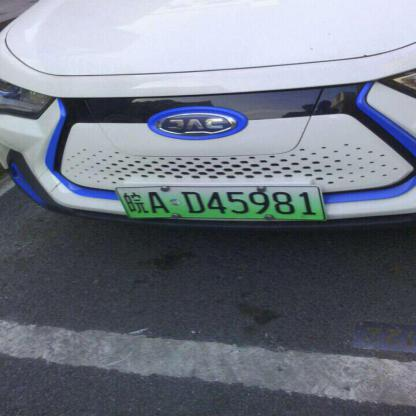lp: (113, 185, 326, 219)
